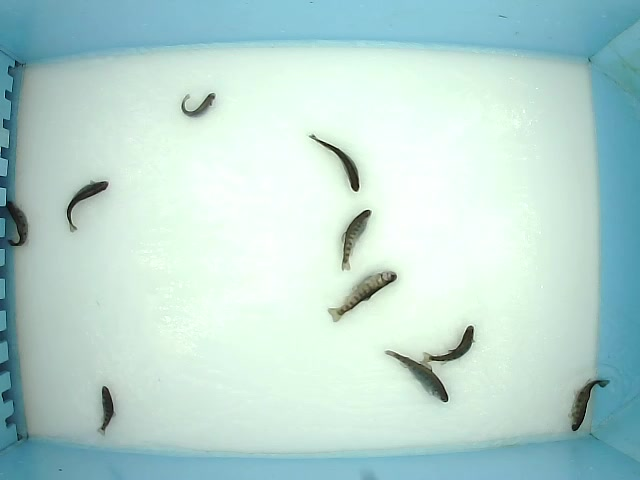fish: (327, 269, 398, 323), (384, 349, 449, 404), (307, 133, 361, 193), (566, 378, 613, 433), (65, 178, 110, 234), (420, 325, 477, 365), (340, 209, 373, 272), (4, 200, 30, 247), (96, 384, 117, 437), (181, 91, 217, 119)
